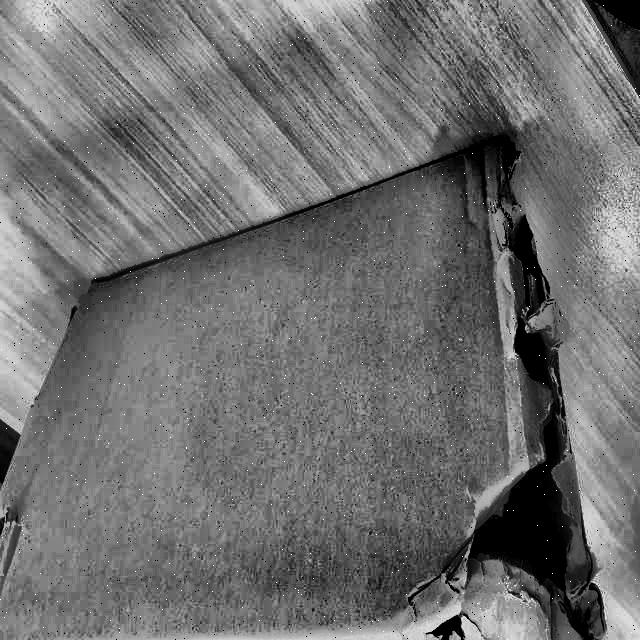box: (0, 116, 623, 640)
hole: (468, 226, 586, 628)
